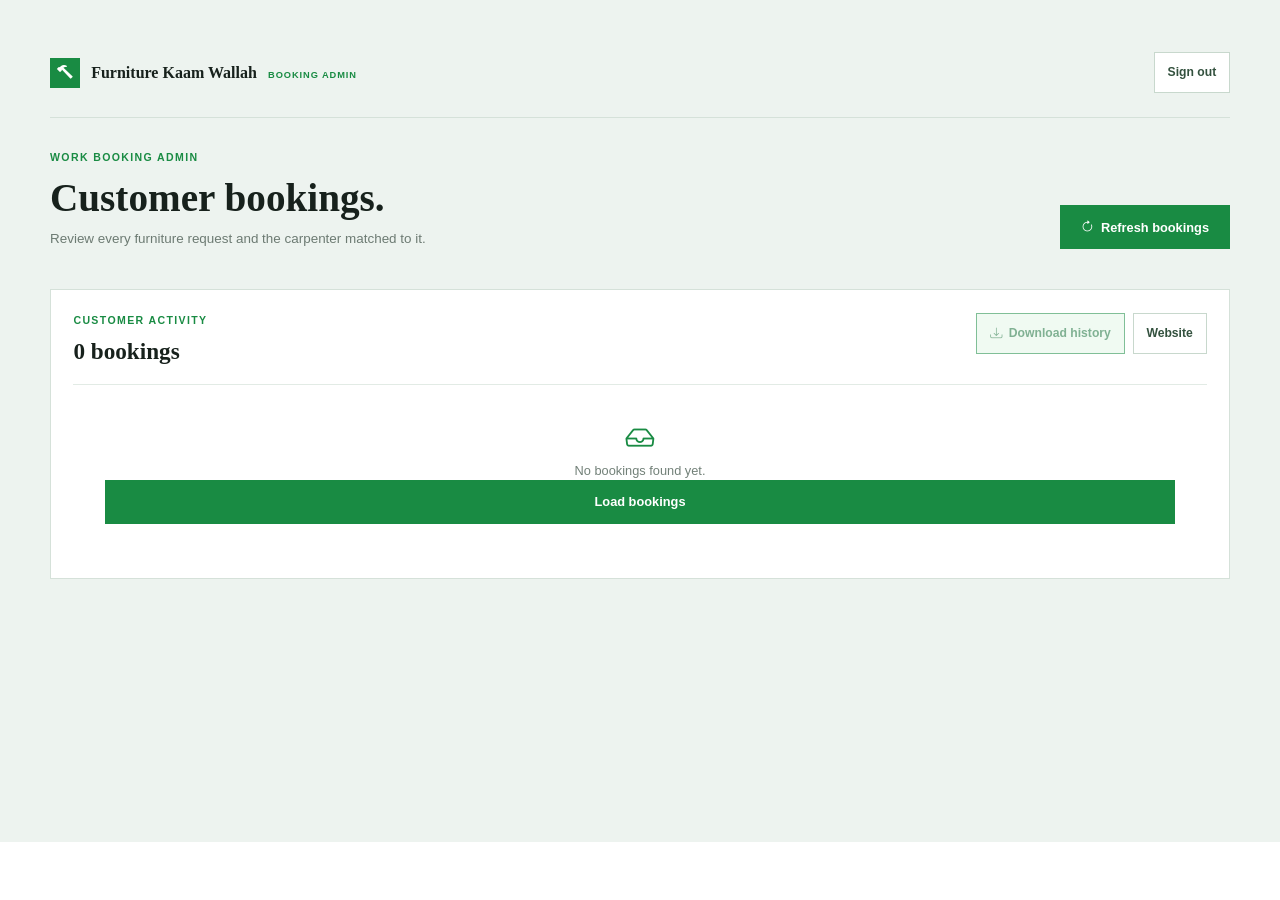
Test: Work Booking Admin › downloads booking history as a CSV file
Later steps or results of the test are not shown.
Click the button "Refresh bookings". click: (1145, 227)
box: [1060,205,1230,249]
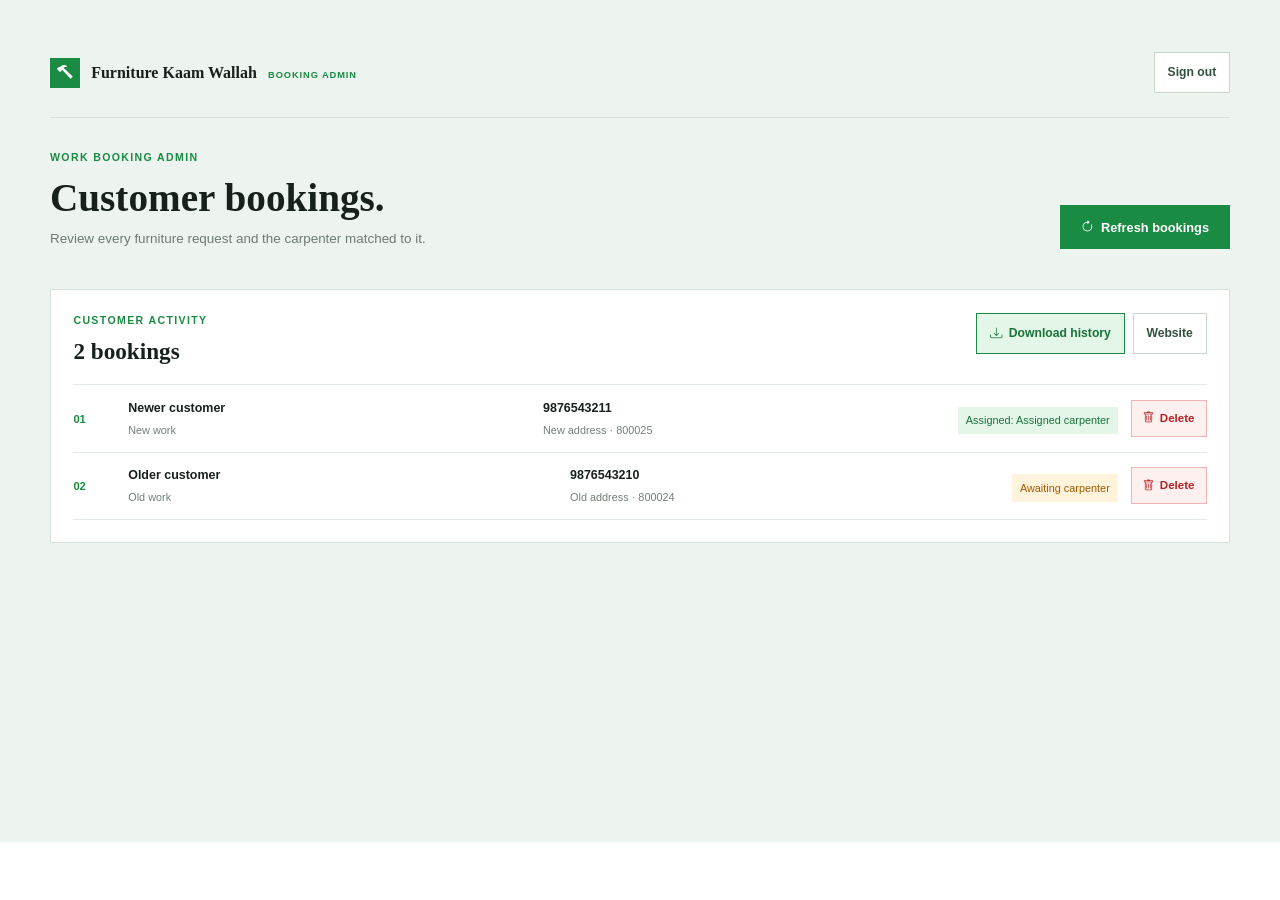
Expected: the text "Newer customer" is shown, [128,401,225,415]
